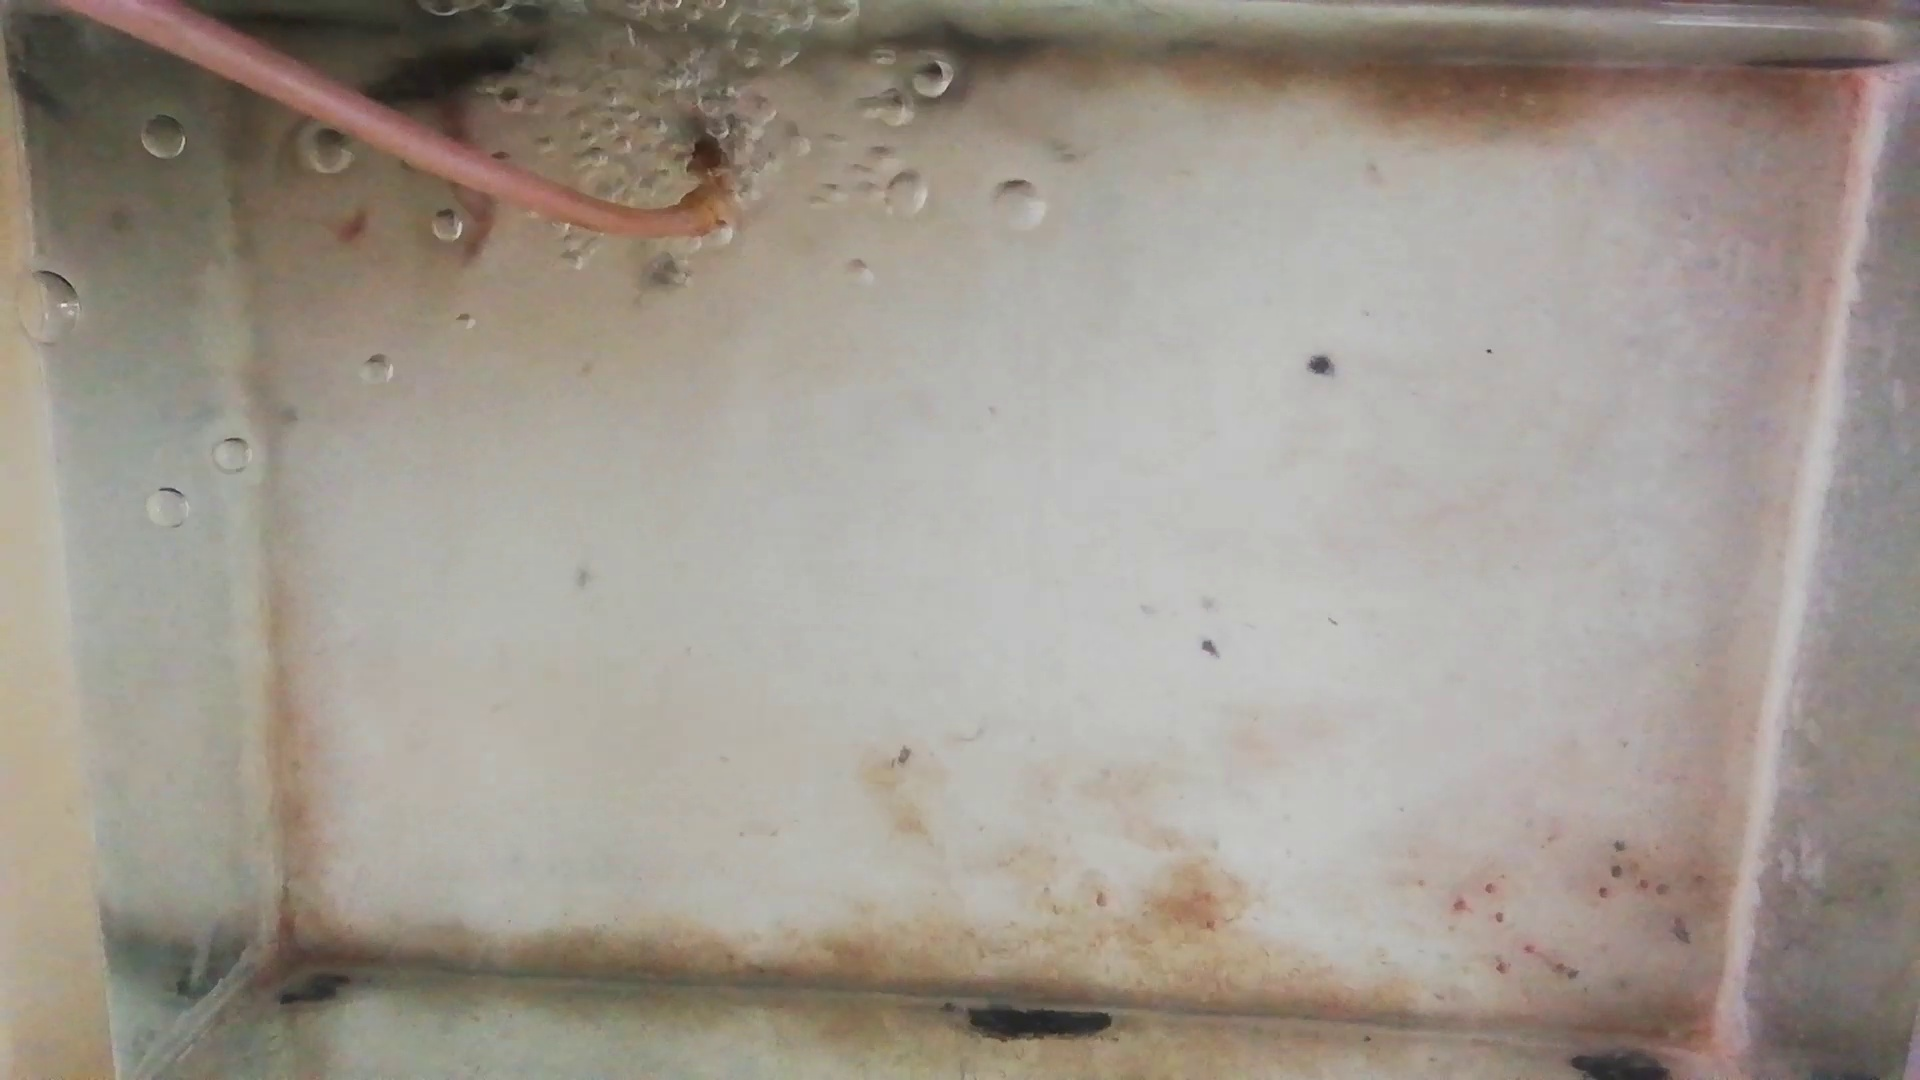fish: (344, 40, 543, 100), (434, 98, 498, 255)
